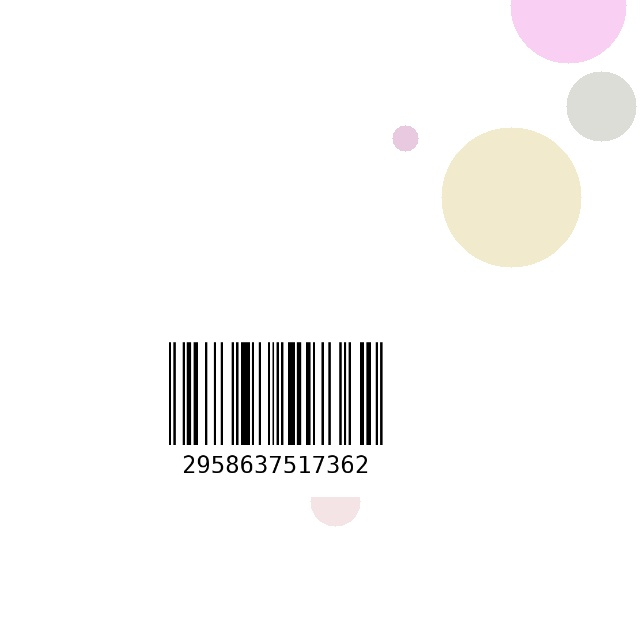barcode: (125, 336, 426, 497)
